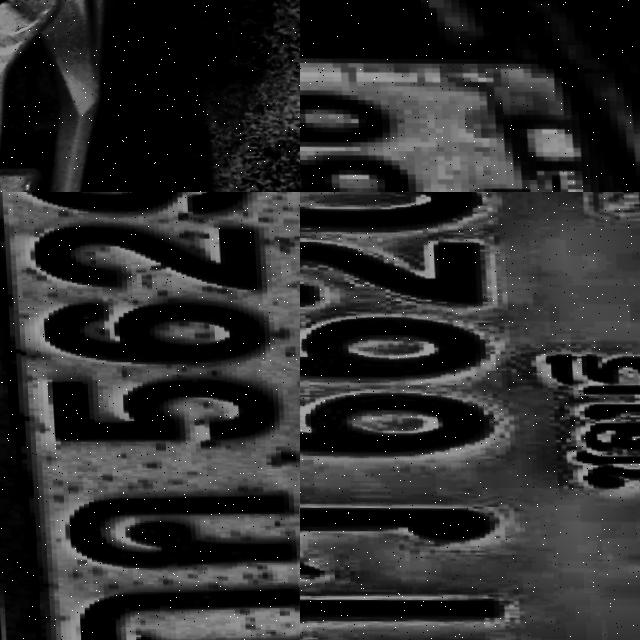license-plate: (300, 192, 640, 640), (0, 192, 300, 640), (300, 13, 640, 192)
